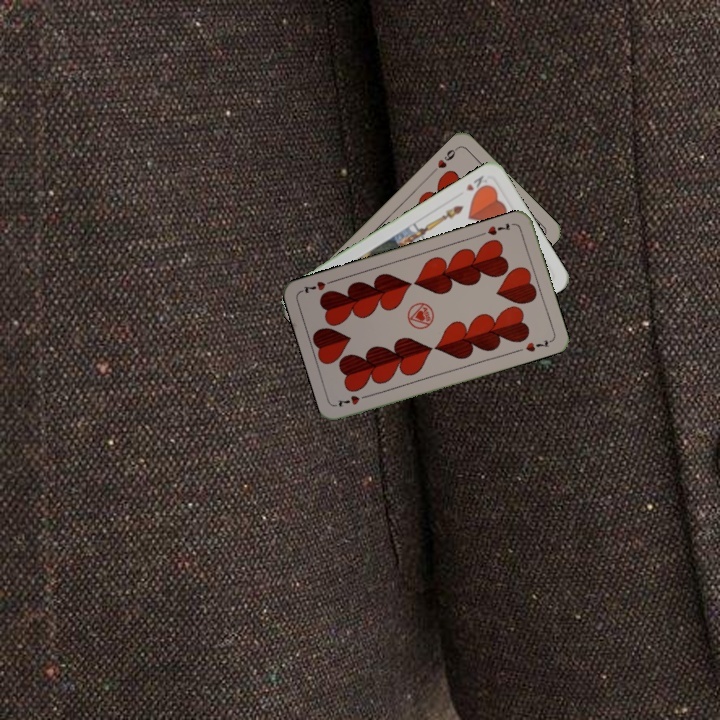H7: (334, 390, 373, 410), (484, 219, 513, 238)
H9: (428, 144, 461, 176)
HK: (462, 171, 492, 197)
